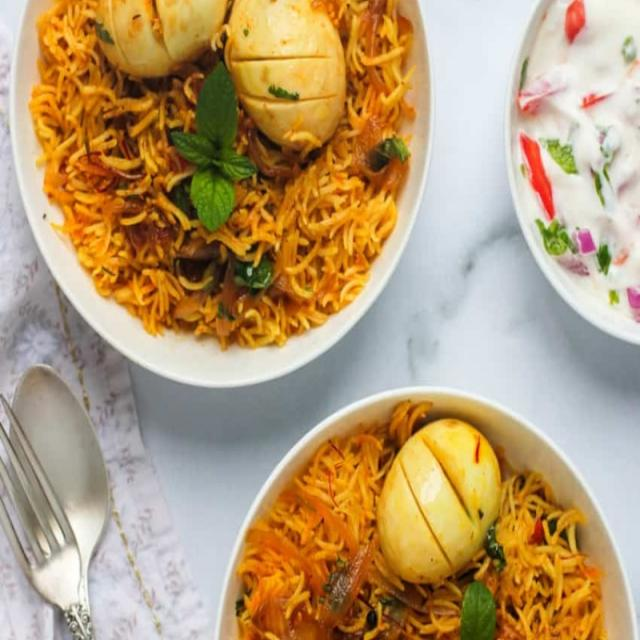Biryani: (30, 4, 424, 363), (222, 402, 615, 639)
